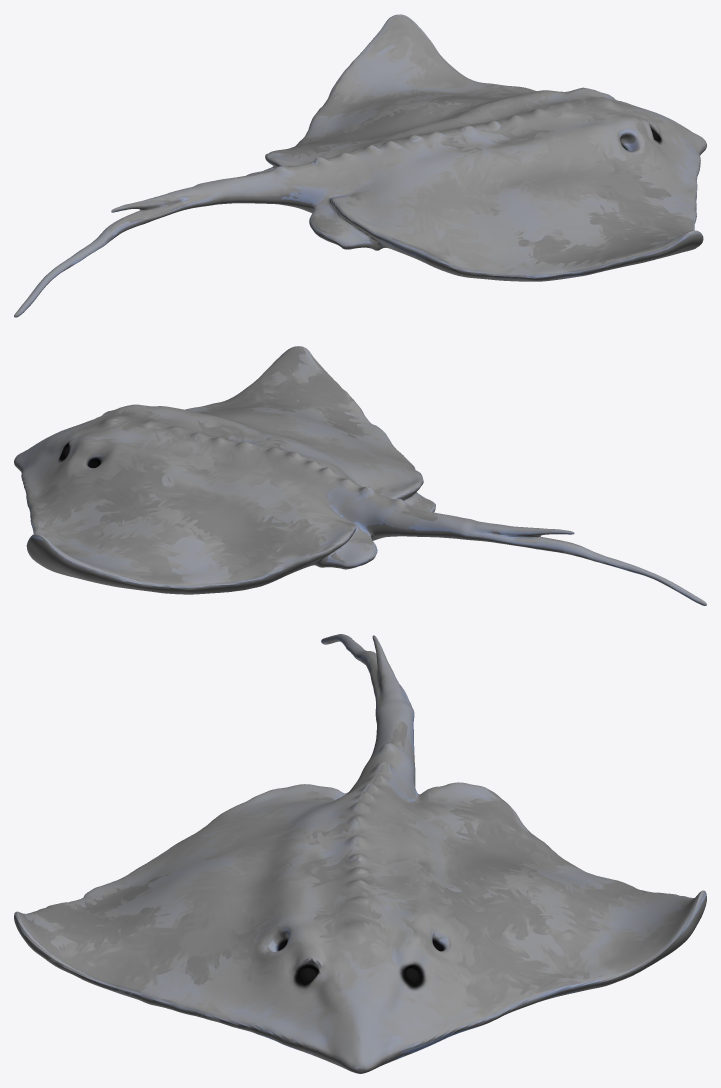
Rendered from mantaraya.glb.
The picture shows the model from 3 angles, top to bottom: view 1: azimuth 30°, elevation 25°; view 2: azimuth 150°, elevation 25°; view 3: azimuth 270°, elevation 25°; orthographic projection. The views are drawn at different scales.
Parts seen in each view (by area): view 1: StingrayRare; view 2: StingrayRare; view 3: StingrayRare.
Part boxes in pixels (x1=…): StingrayRare: x1=14, y1=14, x2=706, y2=317; StingrayRare: x1=14, y1=346, x2=706, y2=605; StingrayRare: x1=14, y1=634, x2=706, y2=1073.
Bounding box in the file's own units: 2.12 × 0.3133 × 1.49.
Materials: 2 (1 with a texture image).
